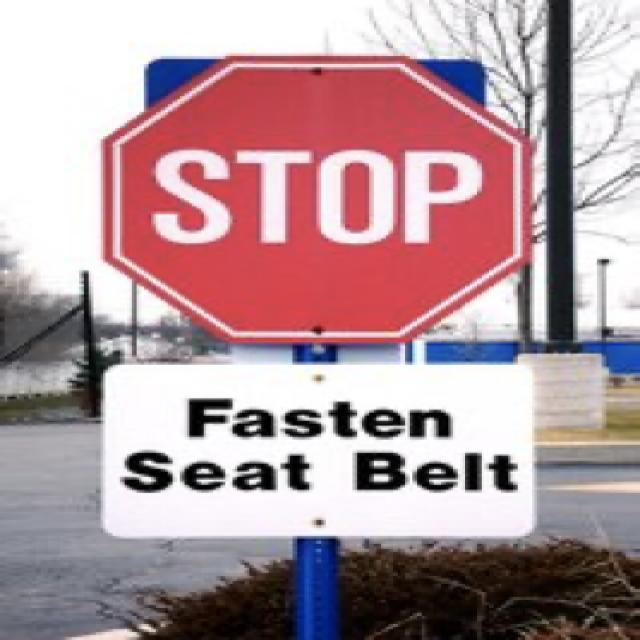stop: (96, 54, 530, 341)
